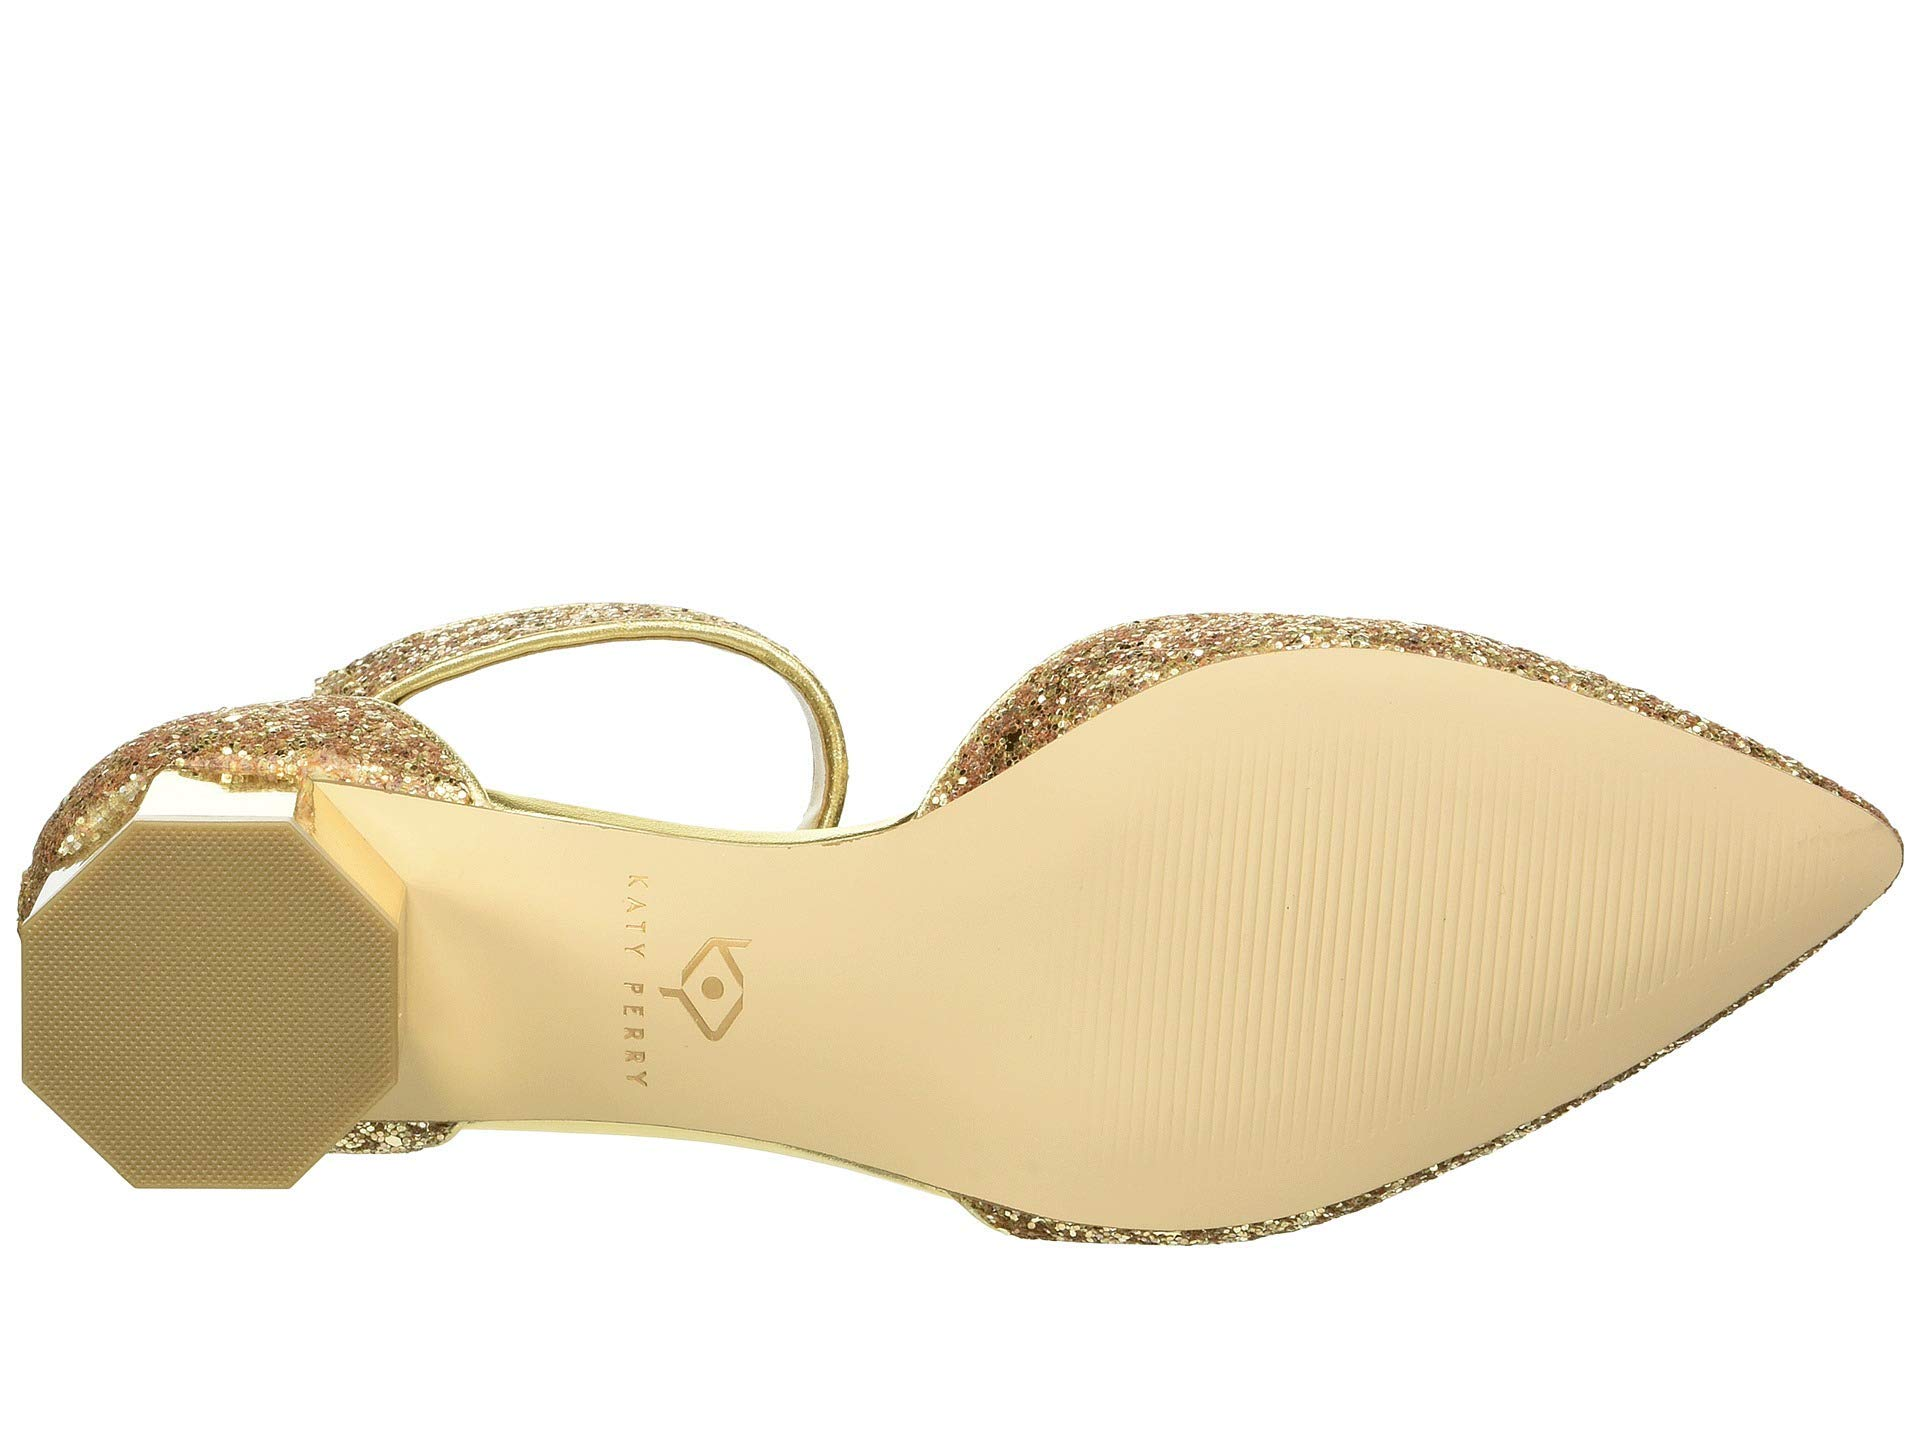exclude: (425, 538, 866, 1299)
line: (1169, 685, 1525, 1148)
polygon: (23, 809, 401, 1234)
